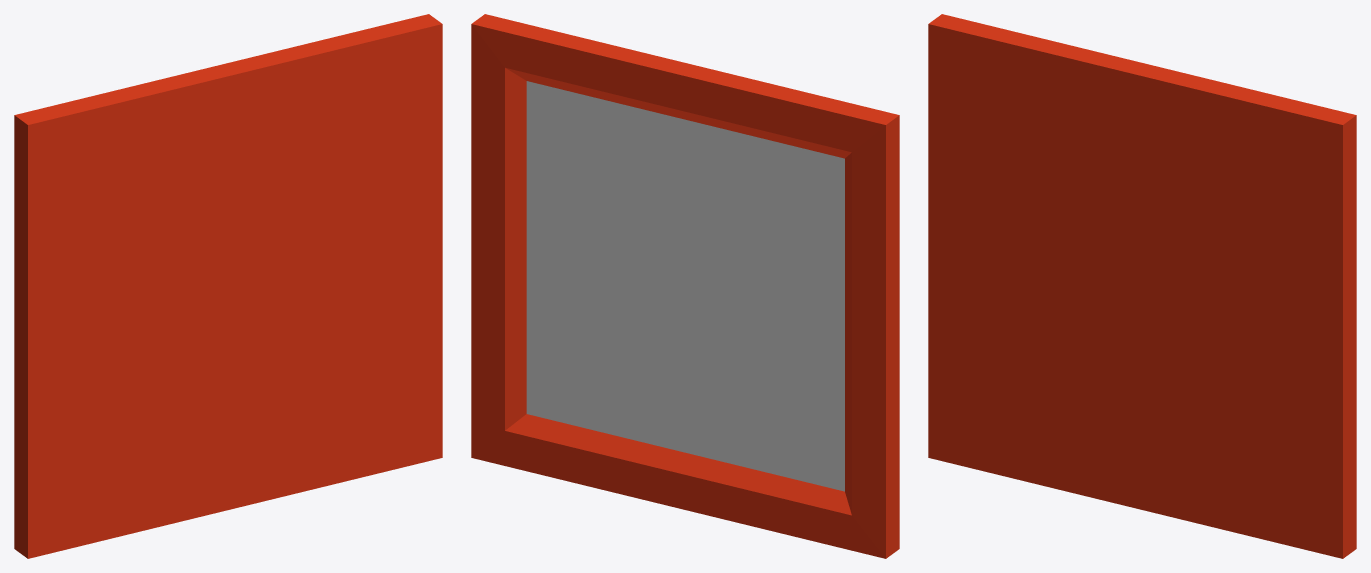
Rendered from Frame1.fbx.
The picture shows the model from 3 angles, left to right: view 1: azimuth 30°, elevation 25°; view 2: azimuth 150°, elevation 25°; view 3: azimuth 330°, elevation 25°; orthographic projection.
Visible parts, largest first — view 1: Cube.027; view 2: Cube.027; view 3: Cube.027.
Part boxes in pixels (x1=…): Cube.027: x1=14, y1=14, x2=442, y2=558; Cube.027: x1=471, y1=14, x2=899, y2=558; Cube.027: x1=928, y1=14, x2=1356, y2=558.
Bounding box in the file's own units: 20 × 20 × 1.16.
